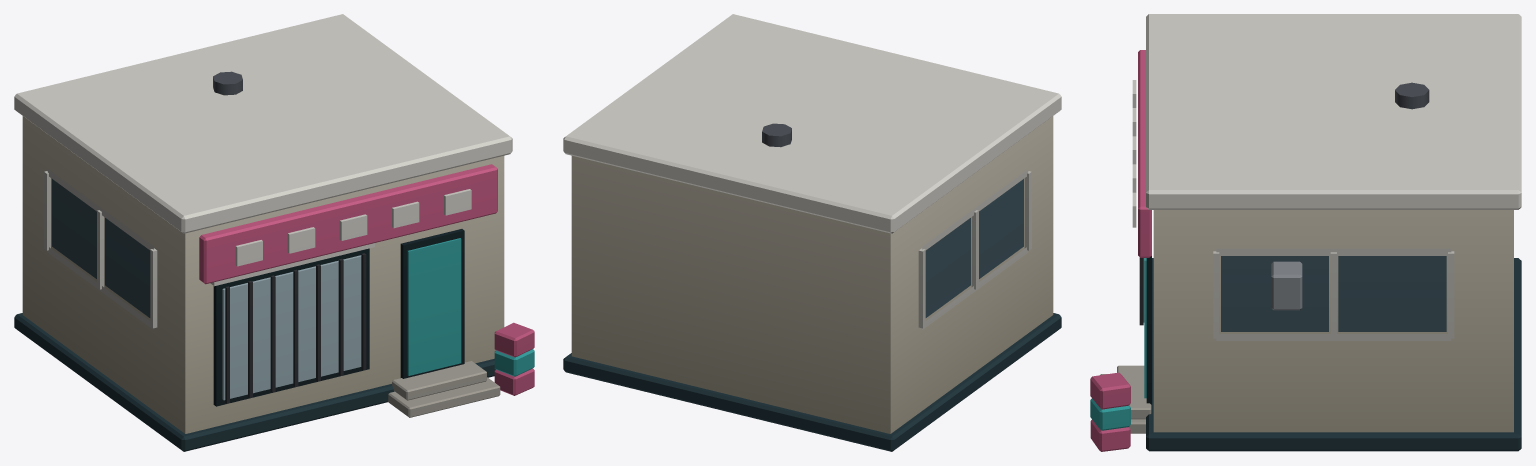
File: corner-bodega-liquor.glb
3 renders of one model, left to right at view 1: azimuth 30°, elevation 25°; view 2: azimuth 150°, elevation 25°; view 3: azimuth 270°, elevation 25°, orthographic. The views are drawn at different scales.
Visible parts, largest first — view 1: corner_bodega_liquor; view 2: corner_bodega_liquor; view 3: corner_bodega_liquor.
Boxes of the visible parts, x1,y1,x2,y2 form: corner_bodega_liquor: [14, 14, 534, 451]; corner_bodega_liquor: [563, 14, 1061, 451]; corner_bodega_liquor: [1090, 14, 1521, 451].
Size of the model in its own units: 5.74 by 3.85 by 5.51.
